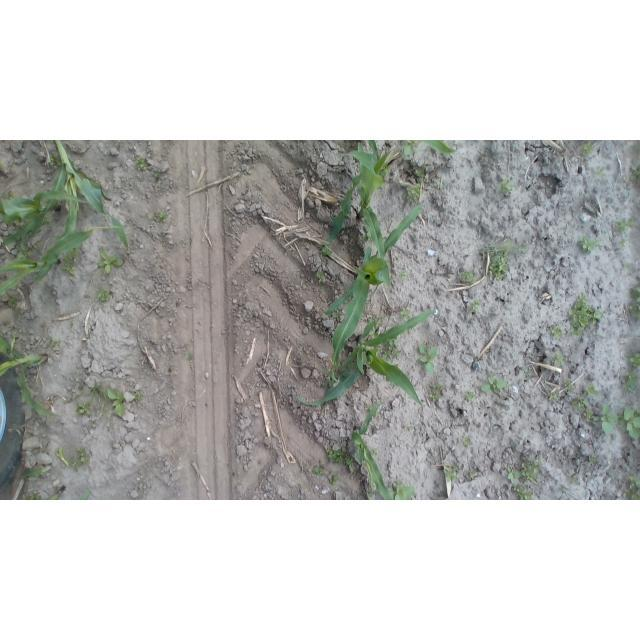Maize: (327, 201, 425, 364), (1, 142, 130, 252), (296, 309, 434, 407), (0, 227, 128, 295), (329, 140, 396, 260), (1, 190, 86, 250), (1, 336, 60, 419), (353, 403, 400, 500), (402, 141, 455, 156)
Weeds: (570, 293, 602, 336), (483, 246, 511, 279), (98, 247, 125, 273), (623, 406, 640, 441), (105, 388, 126, 416), (520, 457, 544, 481), (627, 285, 640, 325), (601, 404, 617, 435), (481, 373, 508, 391), (387, 484, 414, 501), (62, 249, 77, 278), (420, 344, 435, 373), (623, 475, 640, 500), (611, 218, 634, 235), (383, 339, 400, 359), (628, 162, 640, 187), (577, 235, 595, 251), (621, 372, 637, 389), (444, 466, 459, 484), (515, 486, 534, 500), (507, 466, 521, 485), (499, 179, 513, 197), (459, 270, 474, 286), (405, 184, 421, 199), (77, 446, 90, 464), (76, 404, 93, 417), (49, 153, 63, 168), (137, 155, 150, 171), (328, 450, 345, 462), (586, 382, 599, 396), (42, 339, 62, 347), (8, 298, 21, 310), (156, 212, 169, 224), (564, 378, 575, 392), (572, 397, 587, 407), (432, 379, 447, 389), (631, 352, 640, 368), (92, 387, 103, 400), (99, 289, 110, 301), (551, 325, 562, 337), (464, 391, 476, 402), (319, 246, 331, 257), (472, 300, 483, 311), (594, 165, 605, 176), (553, 354, 564, 365), (400, 310, 411, 321), (428, 392, 440, 402), (585, 409, 594, 422), (415, 169, 426, 179), (523, 368, 533, 379), (329, 474, 339, 485), (584, 142, 593, 154), (468, 467, 477, 479), (345, 454, 352, 469), (400, 270, 409, 281), (136, 393, 145, 404), (317, 270, 326, 281), (334, 311, 343, 321), (517, 246, 527, 255), (435, 181, 445, 190), (314, 465, 323, 475), (464, 438, 473, 447), (42, 216, 50, 225), (571, 474, 578, 484), (552, 390, 560, 398), (30, 243, 39, 250), (589, 455, 596, 463), (155, 172, 162, 179)
